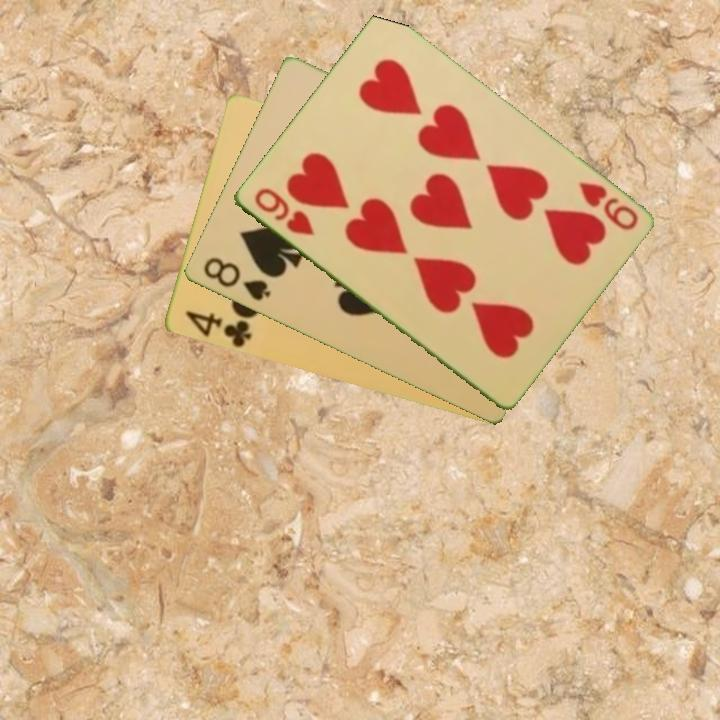4c: (181, 307, 254, 350)
8s: (199, 254, 273, 304)
9h: (574, 178, 641, 234), (250, 184, 317, 239)
